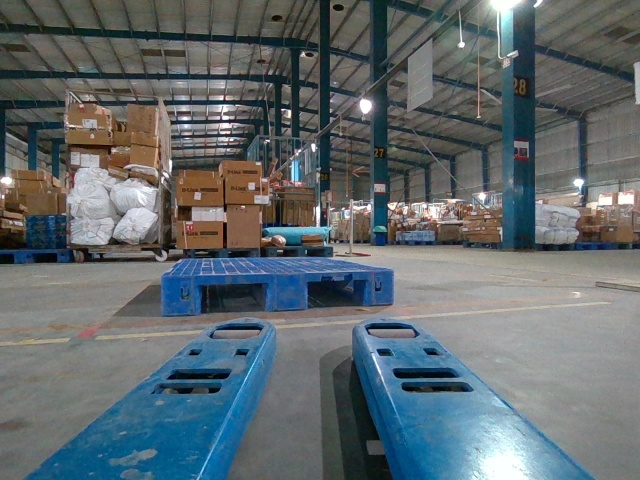block: (270, 271, 311, 313), (164, 274, 199, 313), (365, 270, 394, 305)
front: (161, 271, 393, 318)
hole pallet: (199, 281, 263, 312), (308, 279, 363, 308)
